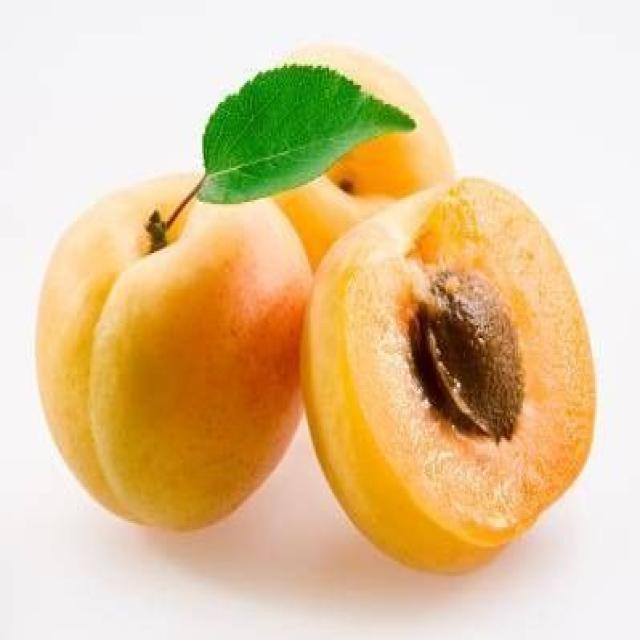kayisi: (300, 179, 597, 578), (34, 170, 310, 536), (273, 47, 458, 278)
kayisiyapragi: (194, 64, 417, 208)
